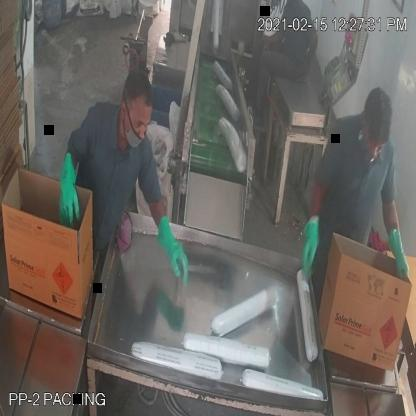glove: (154, 209, 195, 292), (52, 139, 85, 242), (387, 218, 413, 294), (298, 211, 318, 282)
no_glove: (302, 32, 324, 86), (259, 28, 288, 54)
